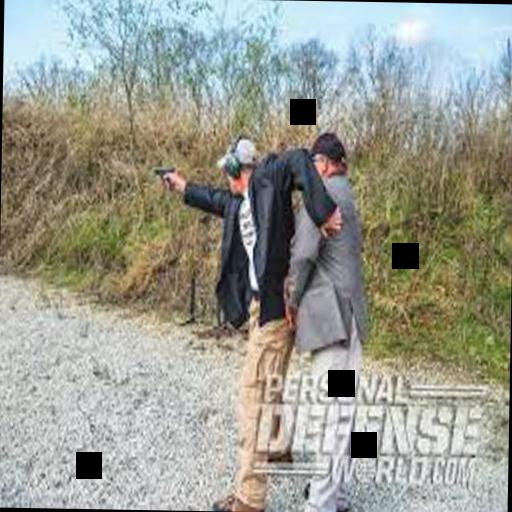Handgun: (146, 164, 170, 190)
